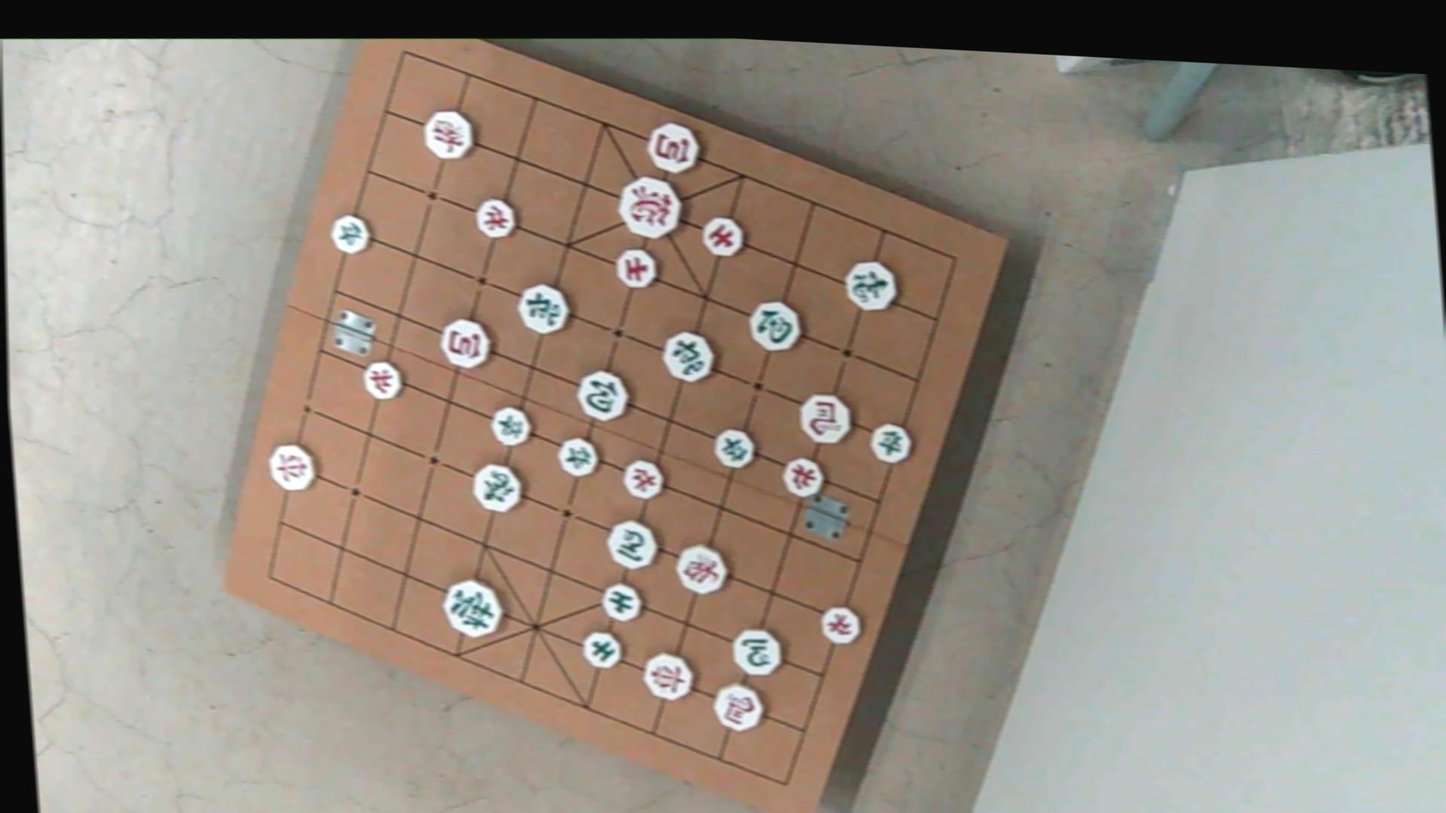cha_green: (517, 279, 572, 334), (659, 327, 713, 383)
cha_red: (642, 647, 696, 700), (265, 441, 317, 492)
jol_green: (328, 210, 371, 254), (712, 425, 756, 468), (868, 421, 912, 464), (557, 434, 599, 477), (490, 402, 532, 444)
jol_red: (781, 454, 827, 499), (621, 455, 666, 498), (819, 602, 865, 644), (360, 360, 405, 402), (474, 195, 517, 238)
ma_green: (605, 516, 660, 571), (729, 626, 783, 677)
ma_red: (796, 388, 852, 443), (712, 680, 767, 733)
po_green: (575, 366, 630, 422), (749, 298, 804, 352)
po_red: (644, 118, 701, 175), (439, 315, 495, 369)
sa_green: (599, 578, 643, 621), (580, 626, 621, 667)
sa_red: (700, 212, 745, 255), (615, 245, 658, 289)
sang_green: (842, 256, 898, 310), (471, 460, 524, 513)
sang_red: (673, 542, 727, 595), (422, 106, 474, 158)
wang_green: (444, 575, 505, 640)
wang_red: (616, 171, 682, 238)
